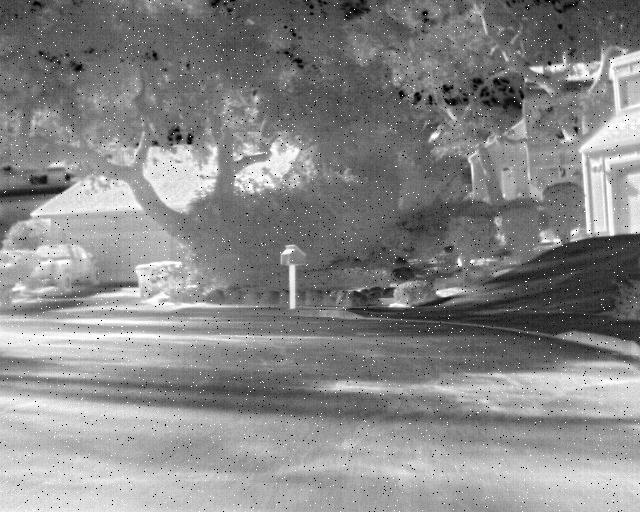car: (28, 235, 108, 301)
mail box: (270, 230, 326, 310)
